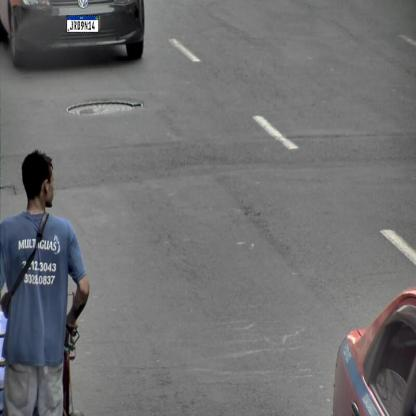PlacaM: (66, 15, 98, 33)
